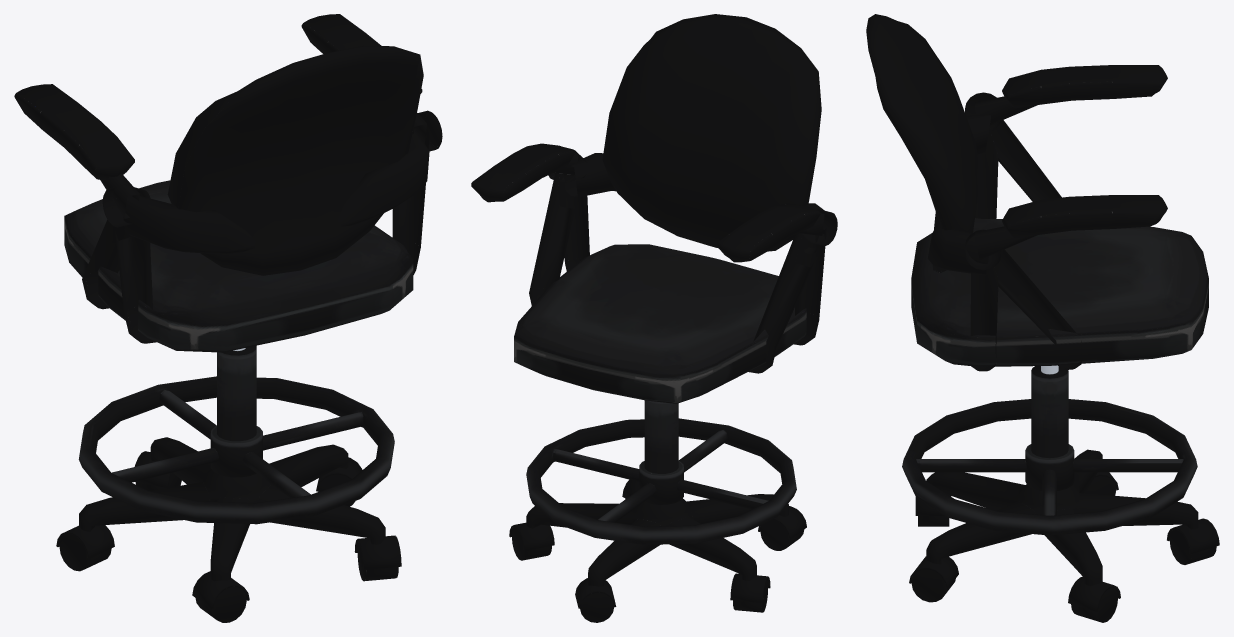
Rendered from Chair.gltf.
The picture shows the model from 3 angles, left to right: view 1: azimuth 30°, elevation 25°; view 2: azimuth 150°, elevation 25°; view 3: azimuth 270°, elevation 25°; orthographic projection. The views are drawn at different scales.
Visible parts, largest first — view 1: Chair; view 2: Chair; view 3: Chair.
Boxes of the visible parts, box(x1,y1,x2,y2) form: Chair: box(14, 14, 442, 622); Chair: box(471, 14, 837, 622); Chair: box(866, 14, 1219, 622).
Bounding box in the file's own units: 0.5626 × 0.9385 × 0.5678.
Materials: 1 (1 with a texture image).
